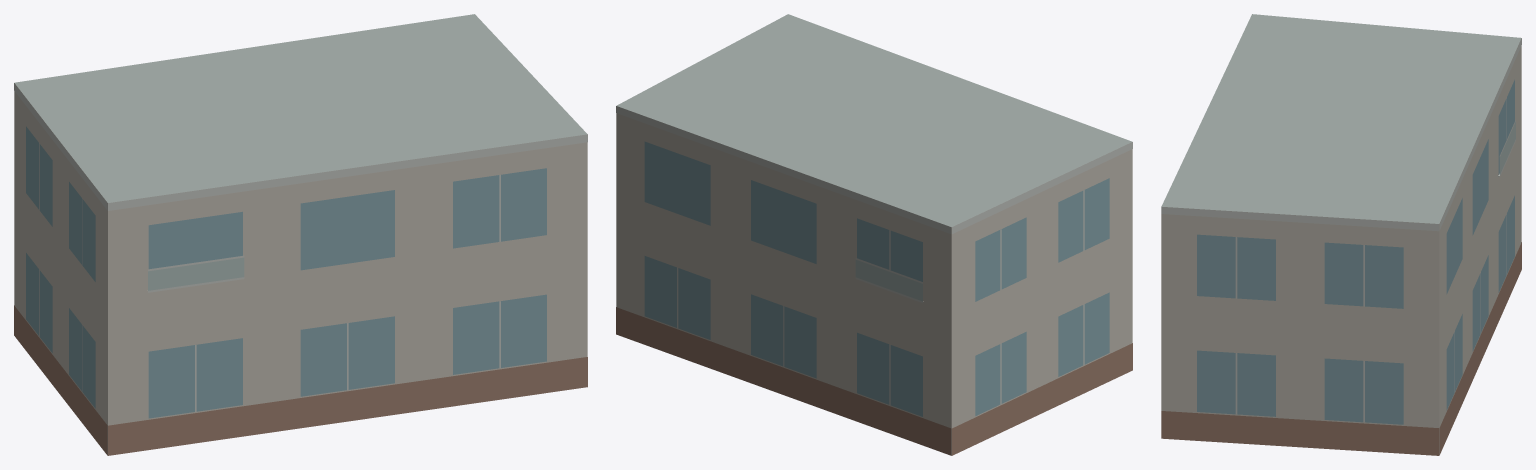
File: survey-upis-32491270.glb
3 views of the same model, side by side, from view 1: azimuth 30°, elevation 25°; view 2: azimuth 150°, elevation 25°; view 3: azimuth 270°, elevation 25° (orthographic). The views are drawn at different scales.
Parts seen in each view (by area): view 1: survey-upis-32491270.tmp; view 2: survey-upis-32491270.tmp; view 3: survey-upis-32491270.tmp.
Boxes of the visible parts, x1,y1,x2,y2 form: survey-upis-32491270.tmp: (14,14,587,455); survey-upis-32491270.tmp: (616,14,1132,455); survey-upis-32491270.tmp: (1161,14,1521,455).
Size of the model in its own units: 15.16 by 7.8 by 11.
